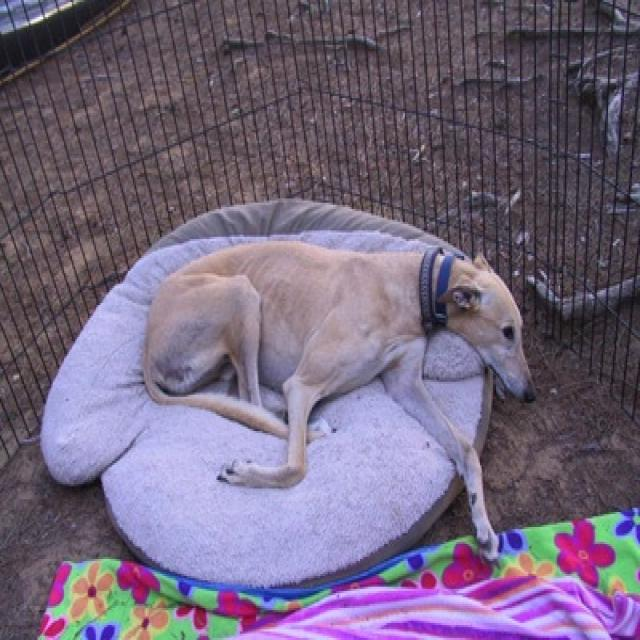dog: (138, 239, 534, 572)
